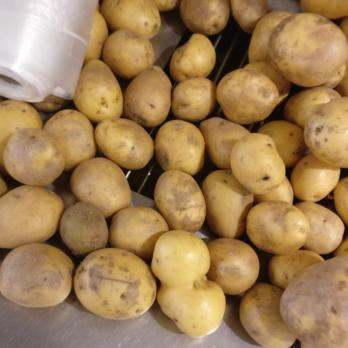Solid potato: (102, 1, 233, 340), (229, 0, 348, 348), (0, 98, 102, 310)
